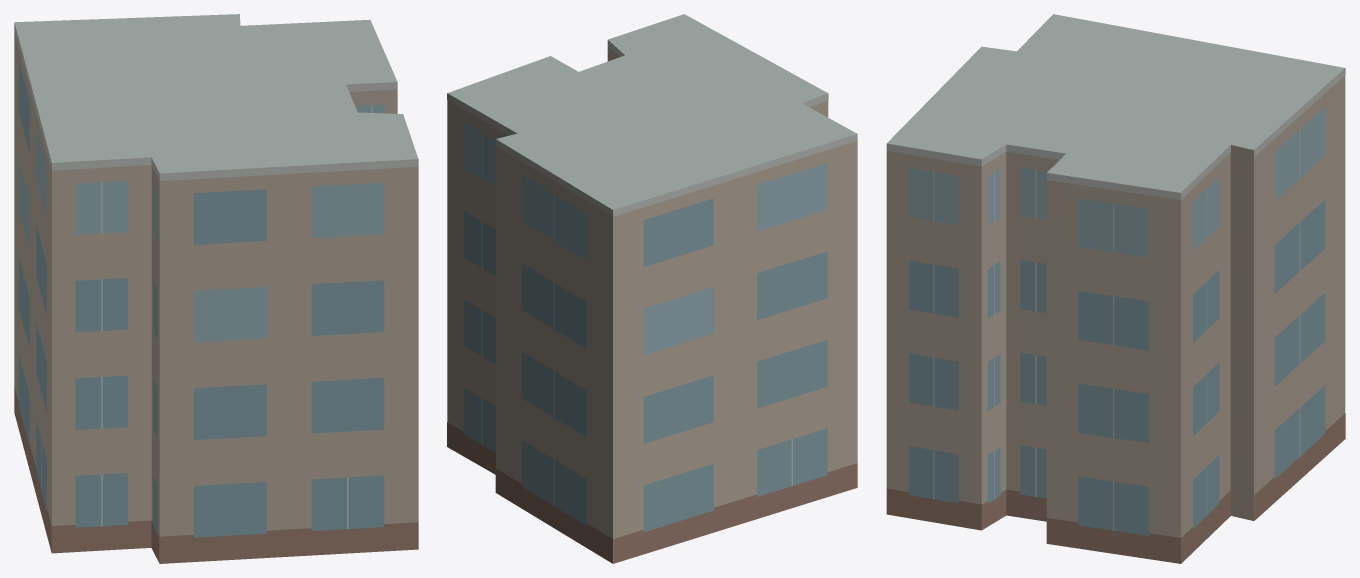
Rendered from survey-upis-32911233.glb.
3 renders of one model, left to right at view 1: azimuth 30°, elevation 25°; view 2: azimuth 150°, elevation 25°; view 3: azimuth 270°, elevation 25°, orthographic. The views are drawn at different scales.
Visible parts, largest first — view 1: survey-upis-32911233.tmp; view 2: survey-upis-32911233.tmp; view 3: survey-upis-32911233.tmp.
Boxes of the visible parts, box(x1,y1,x2,y2) form: survey-upis-32911233.tmp: box(14, 14, 418, 563); survey-upis-32911233.tmp: box(447, 14, 857, 563); survey-upis-32911233.tmp: box(886, 14, 1345, 563).
Size of the model in its own units: 12.99 by 12.55 by 14.07.
